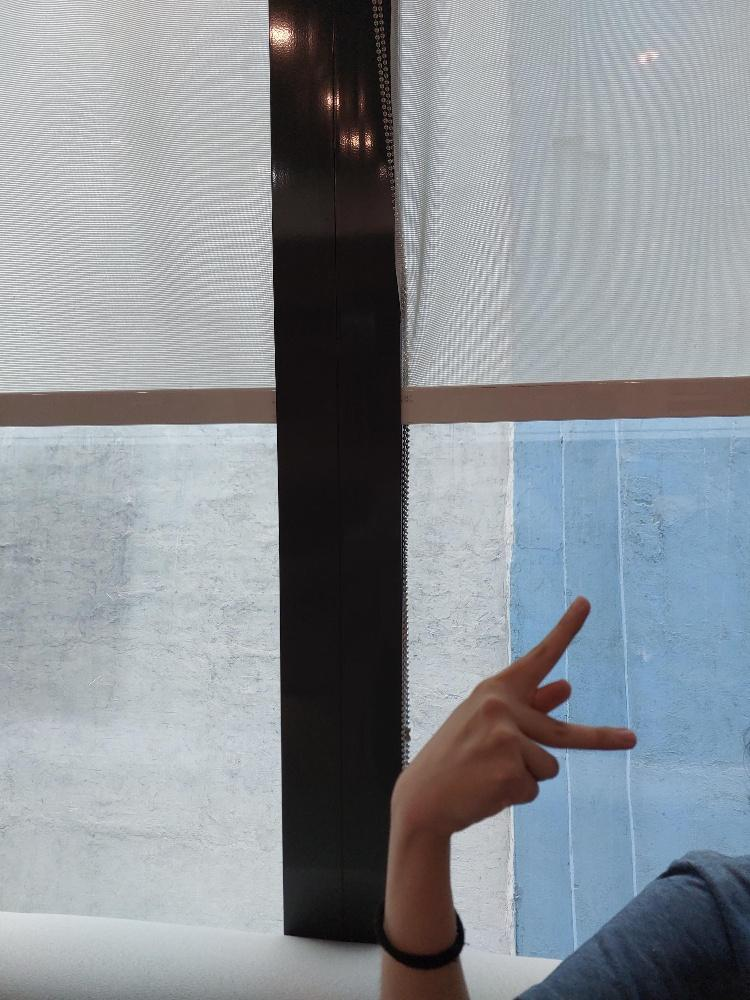k: (402, 597, 634, 833)
